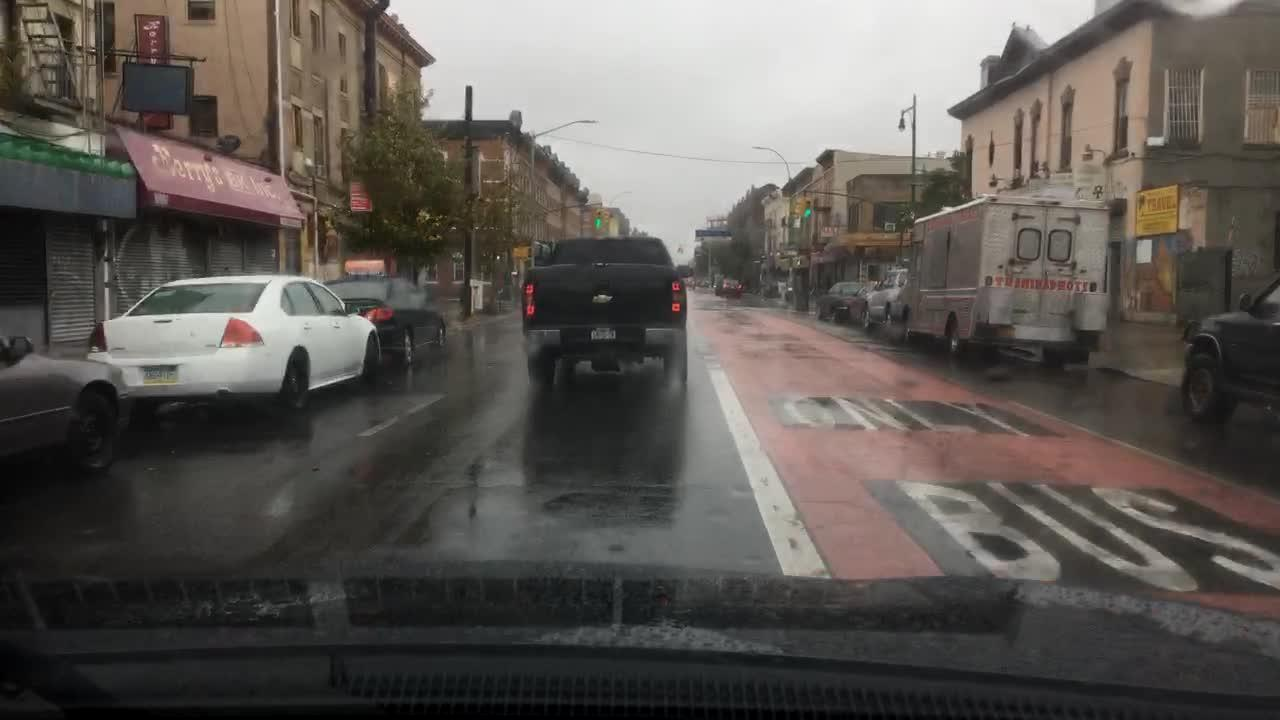chevrolet: (586, 287, 617, 309)
